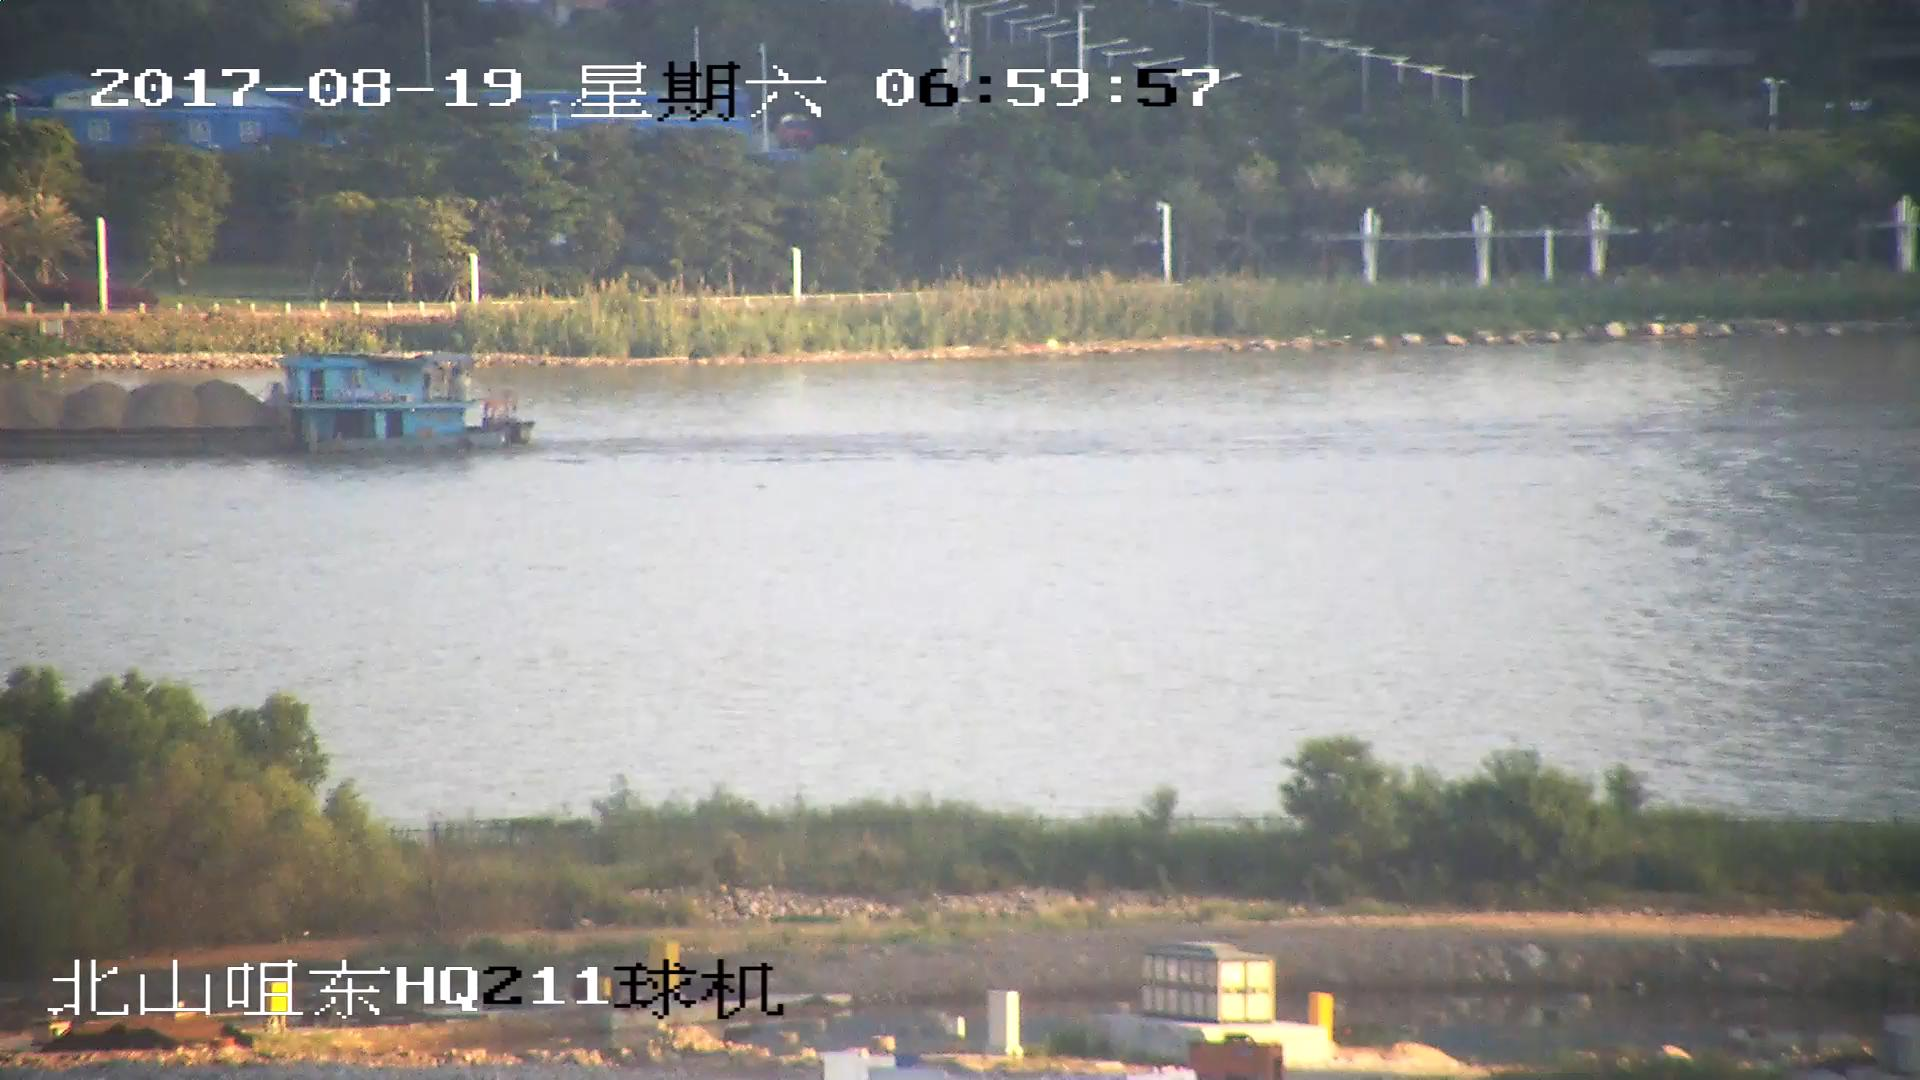ore carrier: (1, 347, 534, 452)
